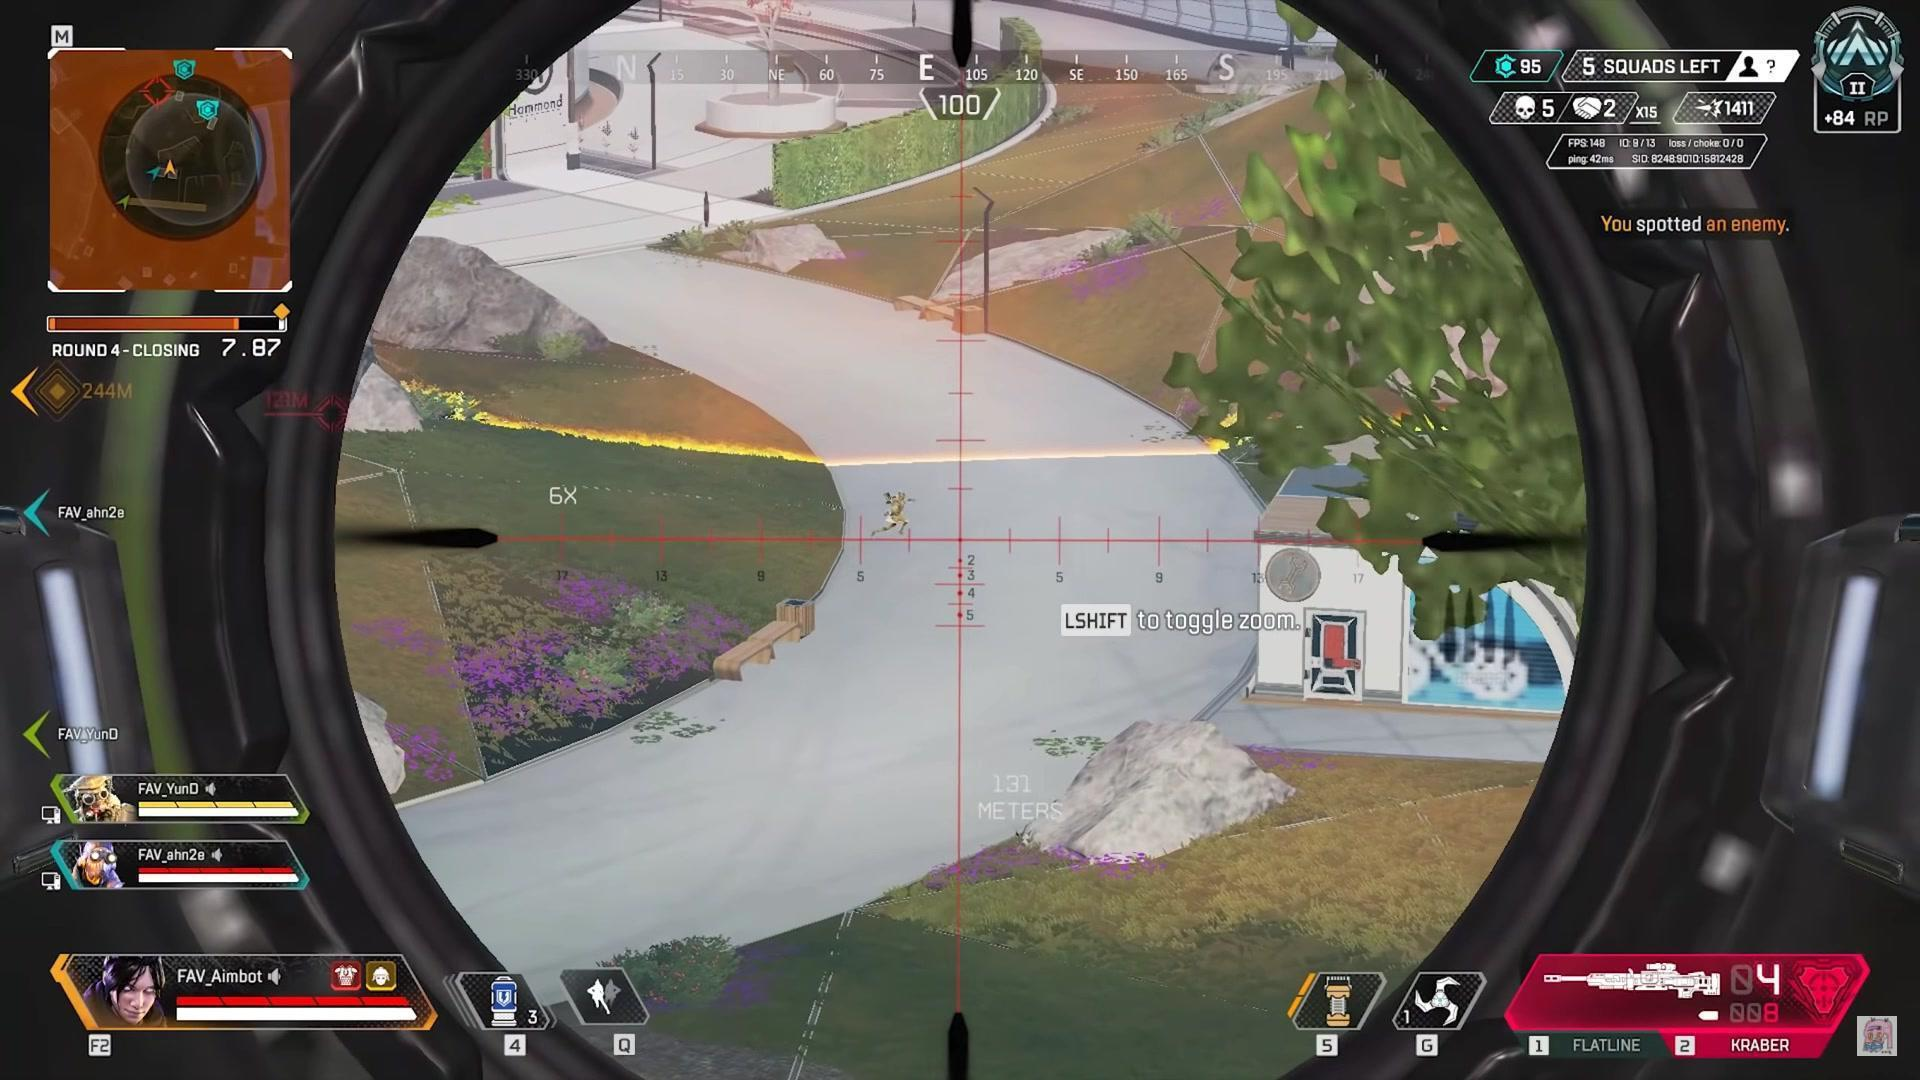avatar: (882, 489, 909, 538)
